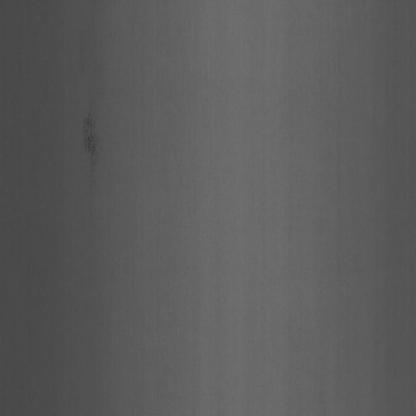inclusion: (78, 114, 102, 180)
